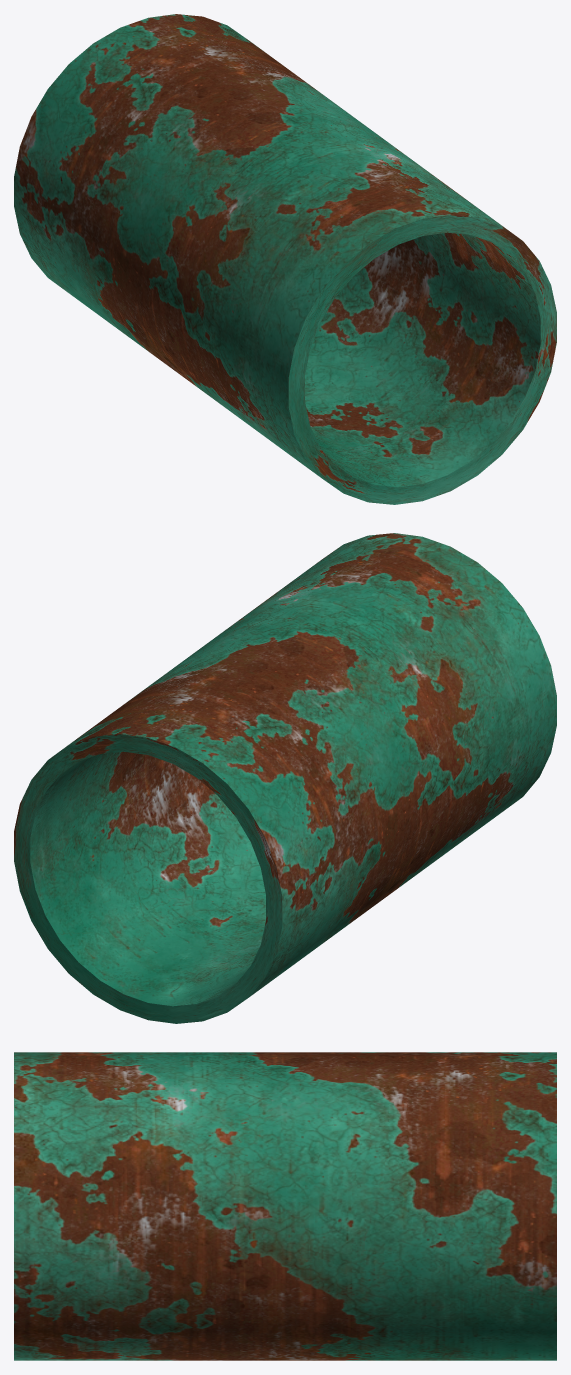
The model's file is CEV PRAZNA.fbx.
3 renders of one model, top to bottom at view 1: azimuth 30°, elevation 25°; view 2: azimuth 150°, elevation 25°; view 3: azimuth 270°, elevation 25°, orthographic.
Parts seen in each view (by area): view 1: Tube002; view 2: Tube002; view 3: Tube002.
Part boxes in pixels (x1,y1,x2,y2): Tube002: [14, 14, 556, 504]; Tube002: [14, 533, 556, 1023]; Tube002: [14, 1052, 556, 1360].
Bounding box in the file's own units: 155 × 156 × 275.
